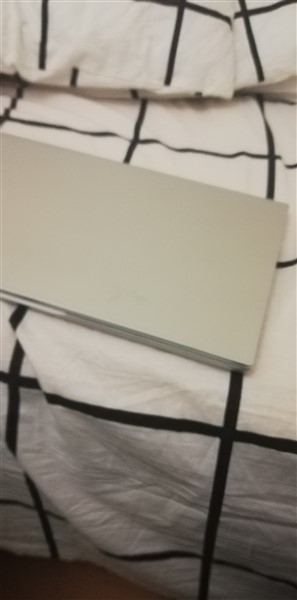laptop: (3, 124, 290, 377)
